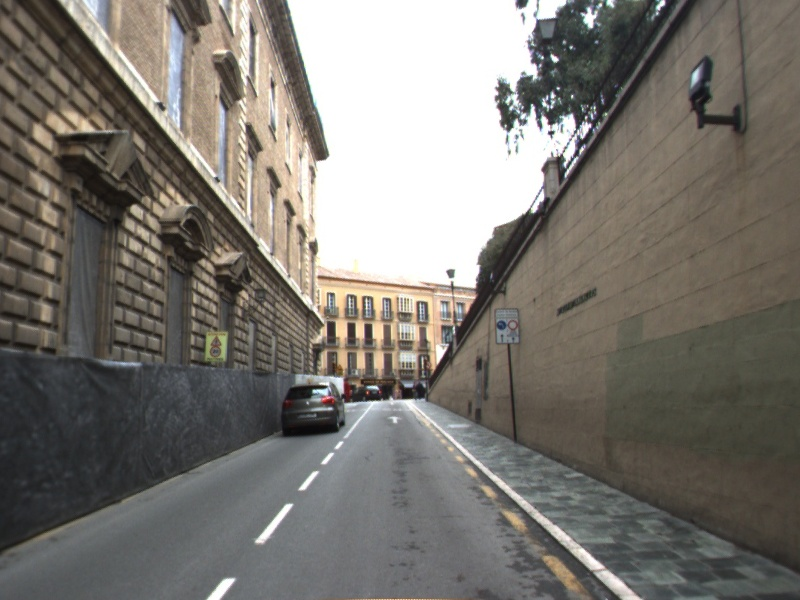STRAIGHT: (384, 414, 405, 426)
